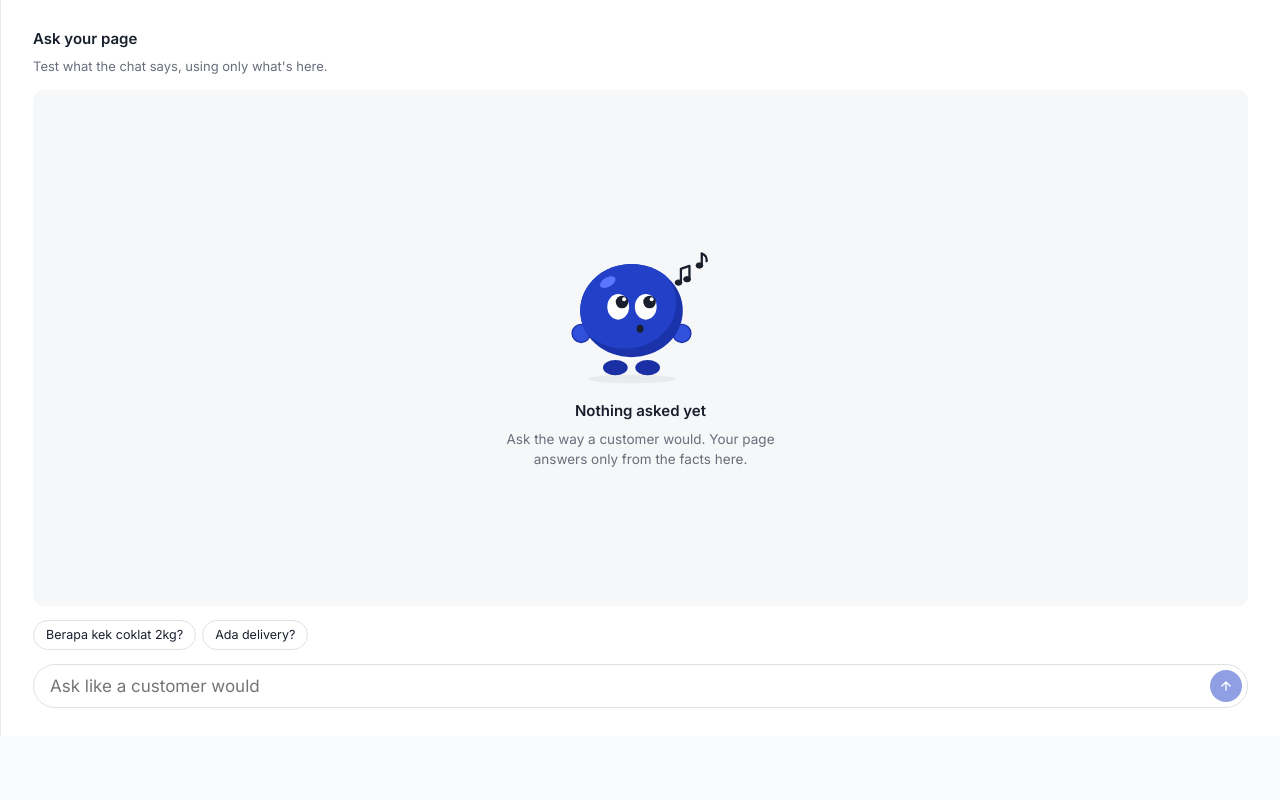
AskPanel › asks what is typed and shows the answer
In the field named "Ask your page": (626,686) 48,670 -> 1204,702, type "Berapa 2kg?"
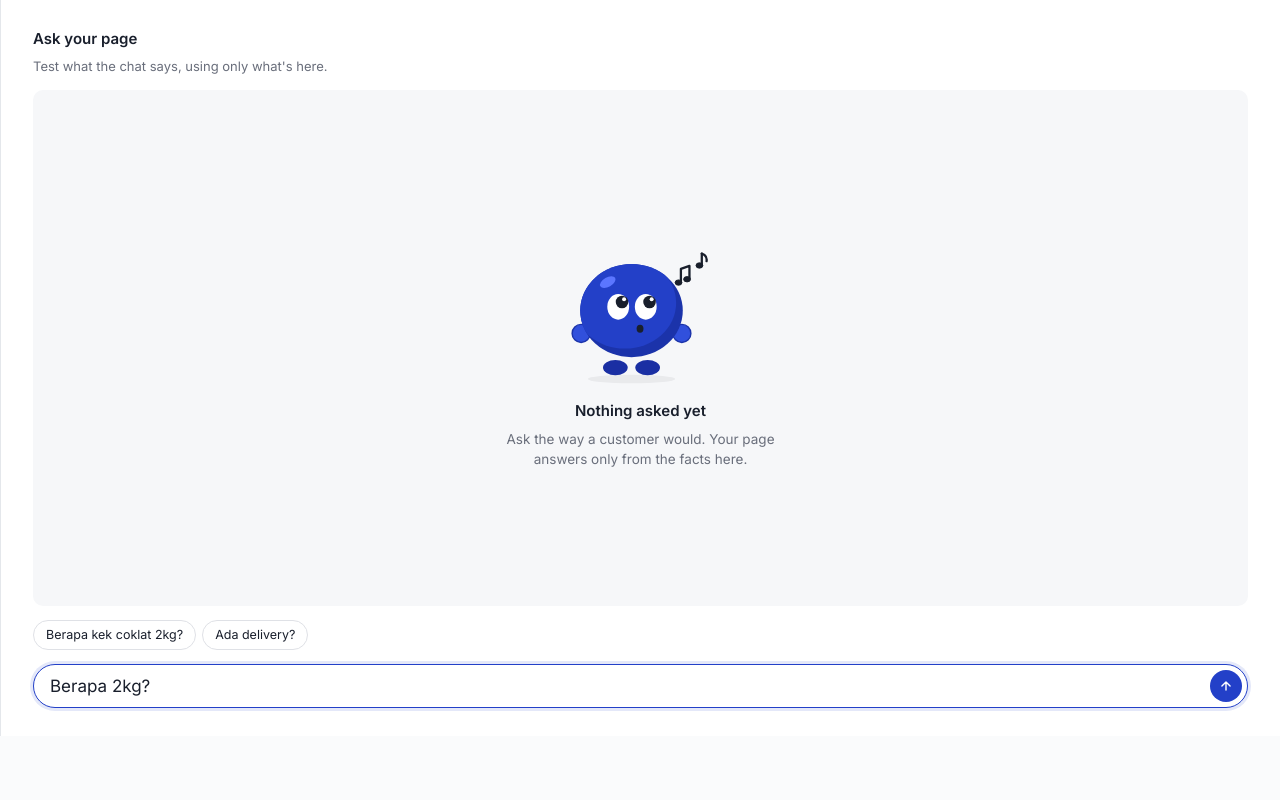
Click the button named "Send": (1226,686) 1210,670 -> 1242,702
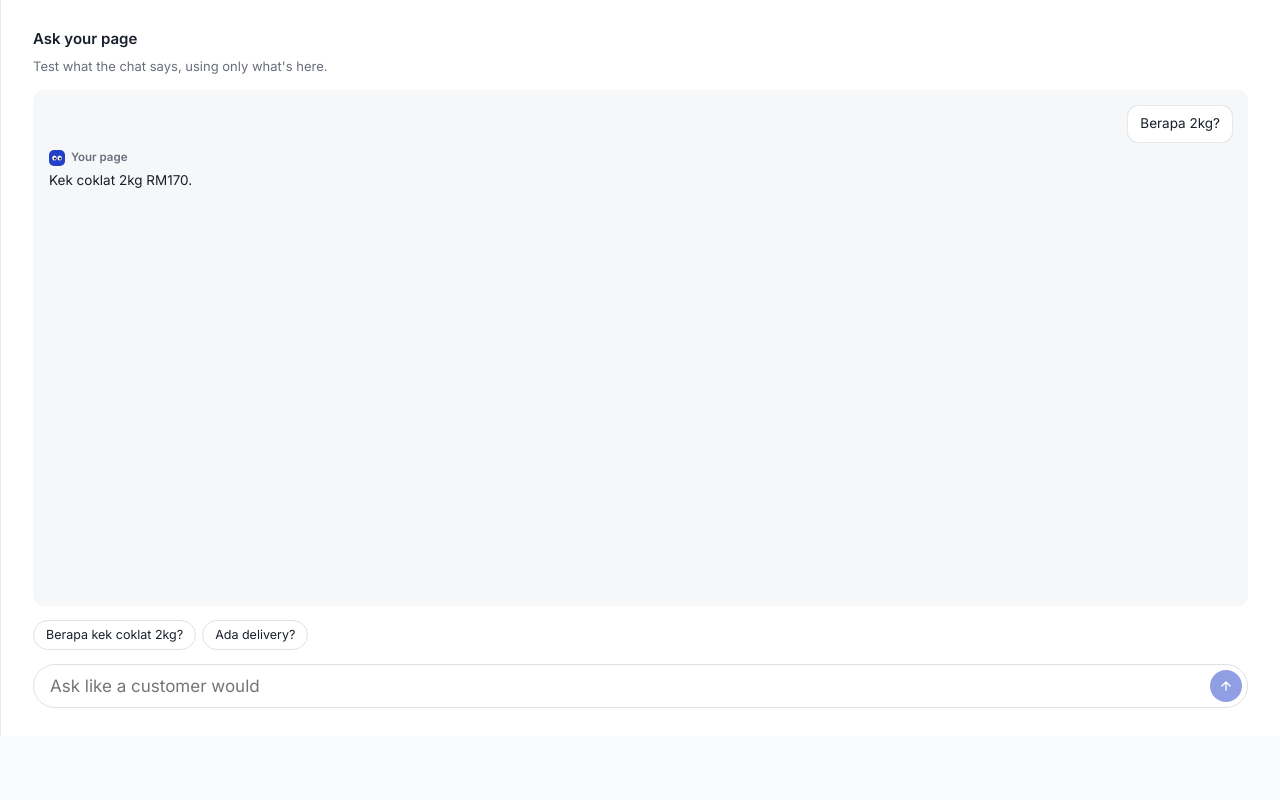
expect the text "Kek coklat 2kg RM170." is shown: met, box 49,170 -> 192,190
expect the text "Berapa 2kg?" is shown: met, box 1128,106 -> 1232,142
expect the field named "Ask your page" is empty: met, box 48,670 -> 1204,702
